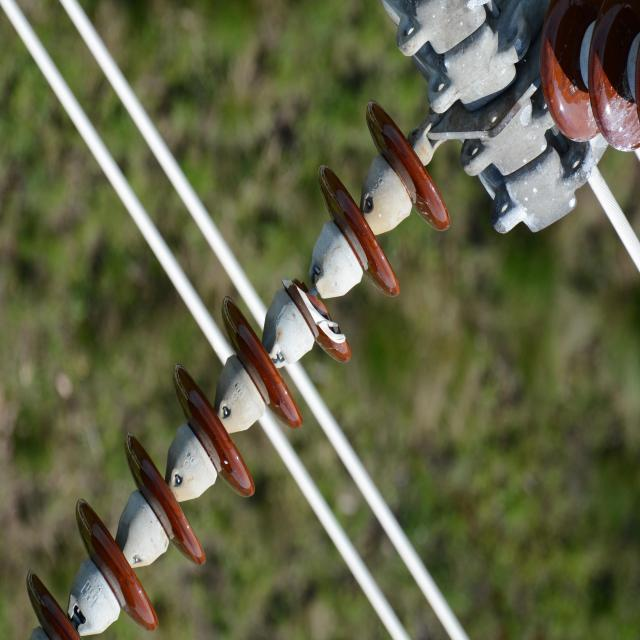broken: (282, 273, 346, 347)
insulator: (24, 100, 452, 638), (536, 2, 640, 149)
